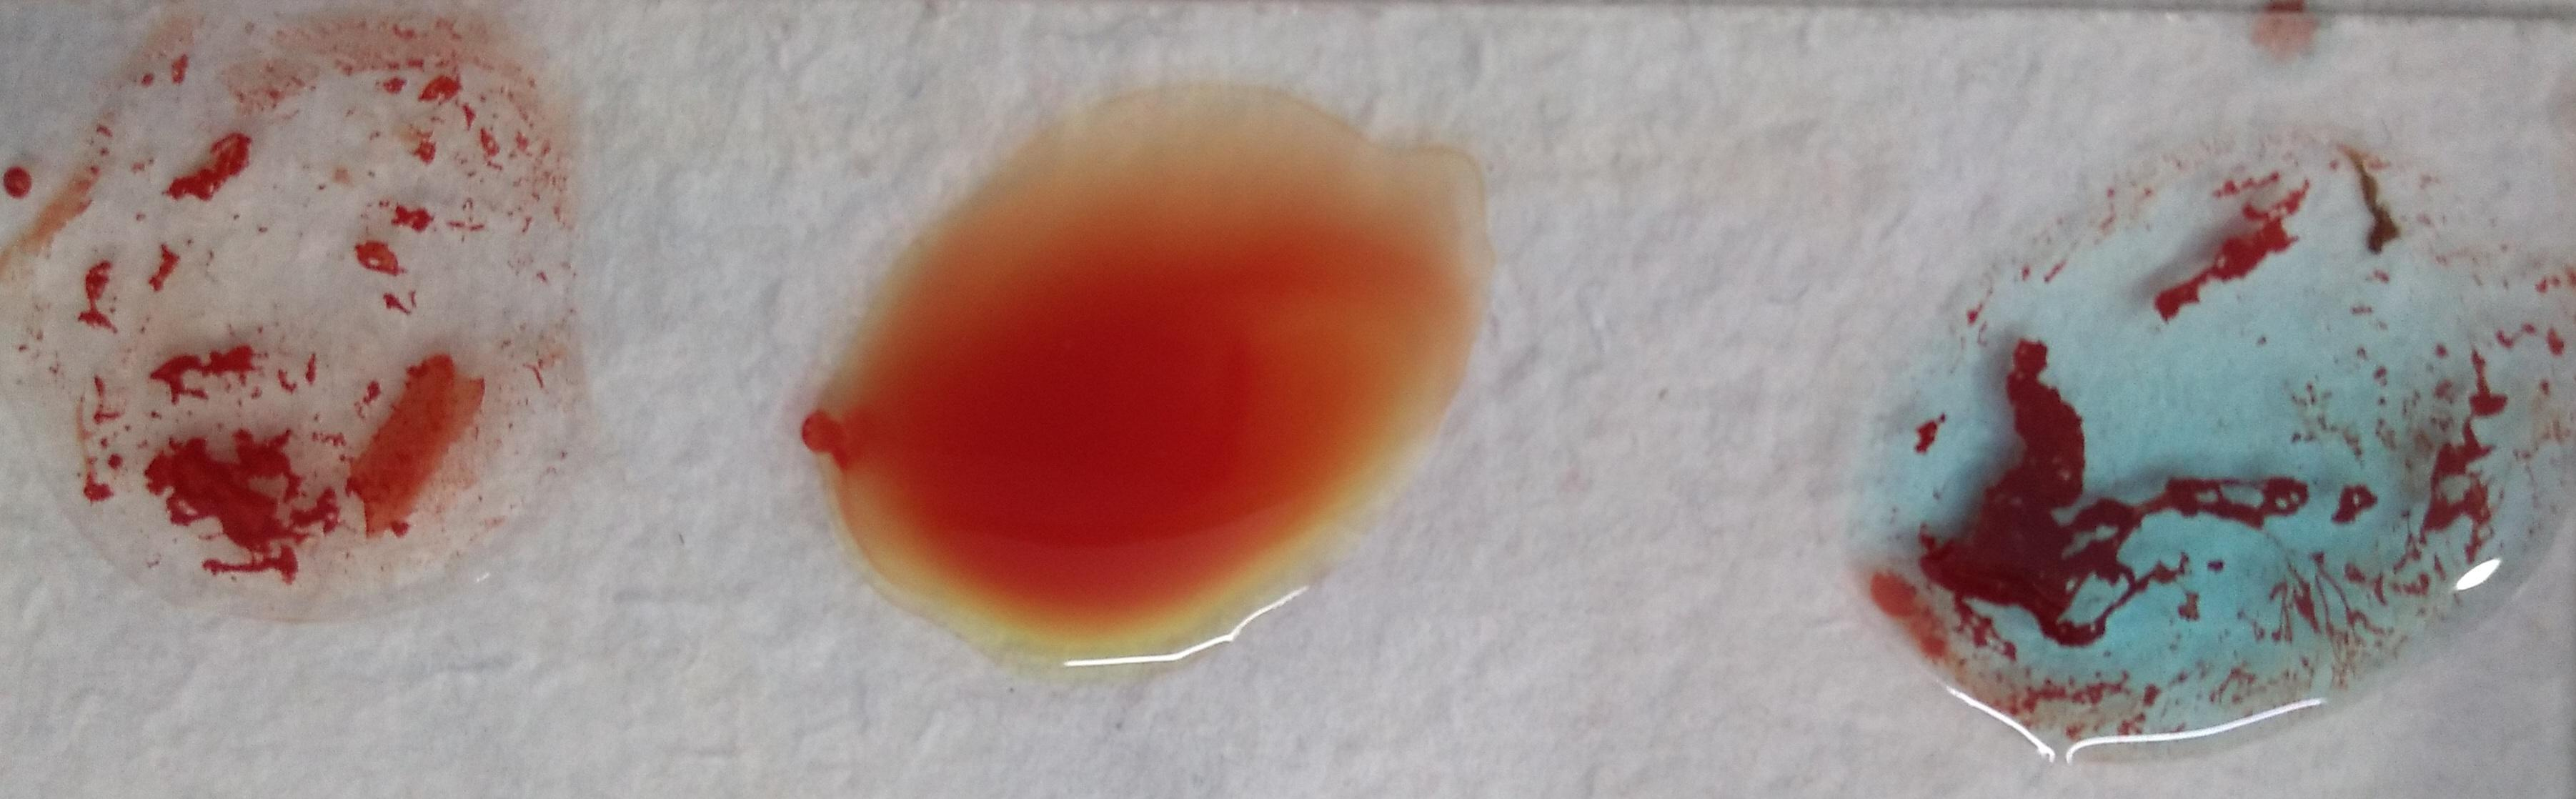A: (1874, 143, 2540, 760)
D: (34, 13, 586, 597)
